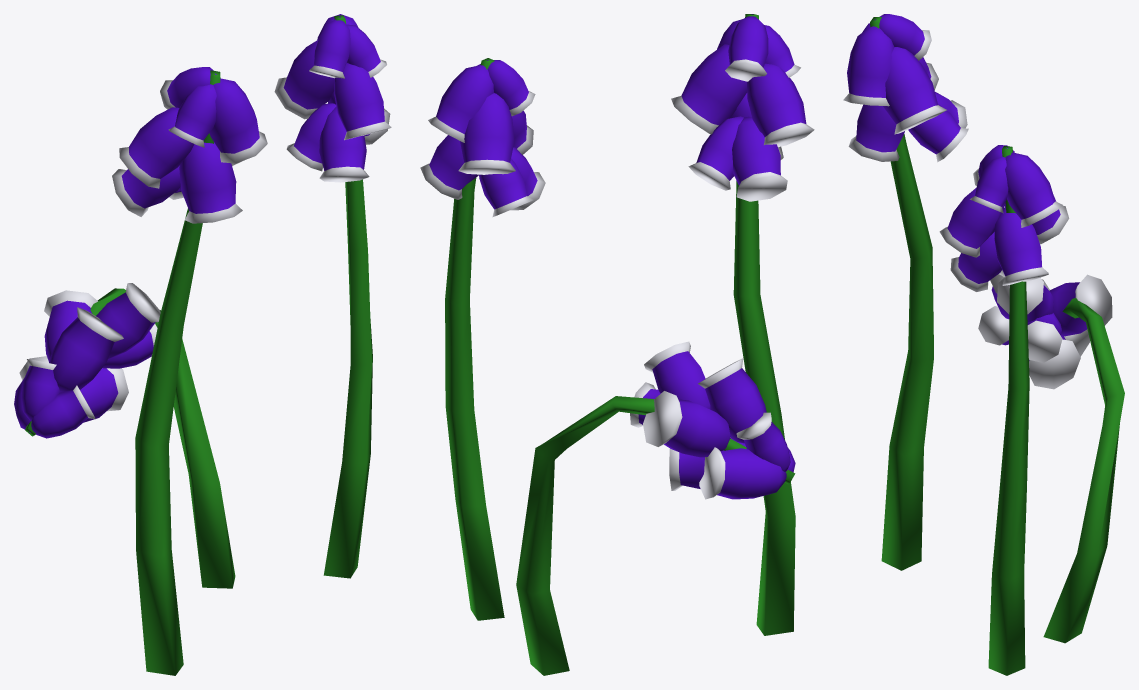
The model's file is BlueFlowerFull.fbx.
3 renders of one model, left to right at view 1: azimuth 30°, elevation 25°; view 2: azimuth 150°, elevation 25°; view 3: azimuth 270°, elevation 25°, orthographic. The views are drawn at different scales.
Visible parts, largest first — view 1: Full; view 2: Full; view 3: Full.
Part boxes in pixels (<box>): Full: <box>14,14,391,675</box>; Full: <box>420,14,814,675</box>; Full: <box>843,14,1124,675</box>.
Bounding box in the file's own units: 0.3993 × 0.2849 × 0.637.
